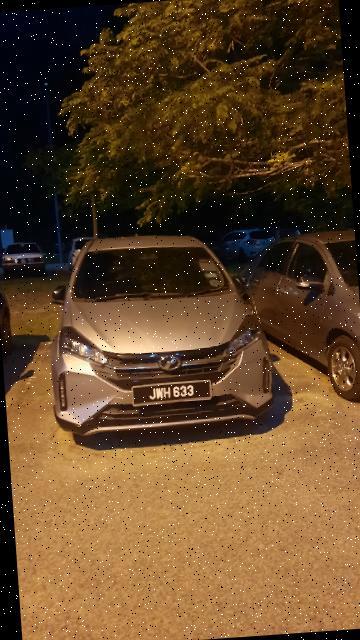License_Plate: (131, 379, 213, 408)
car: (40, 222, 281, 443)
